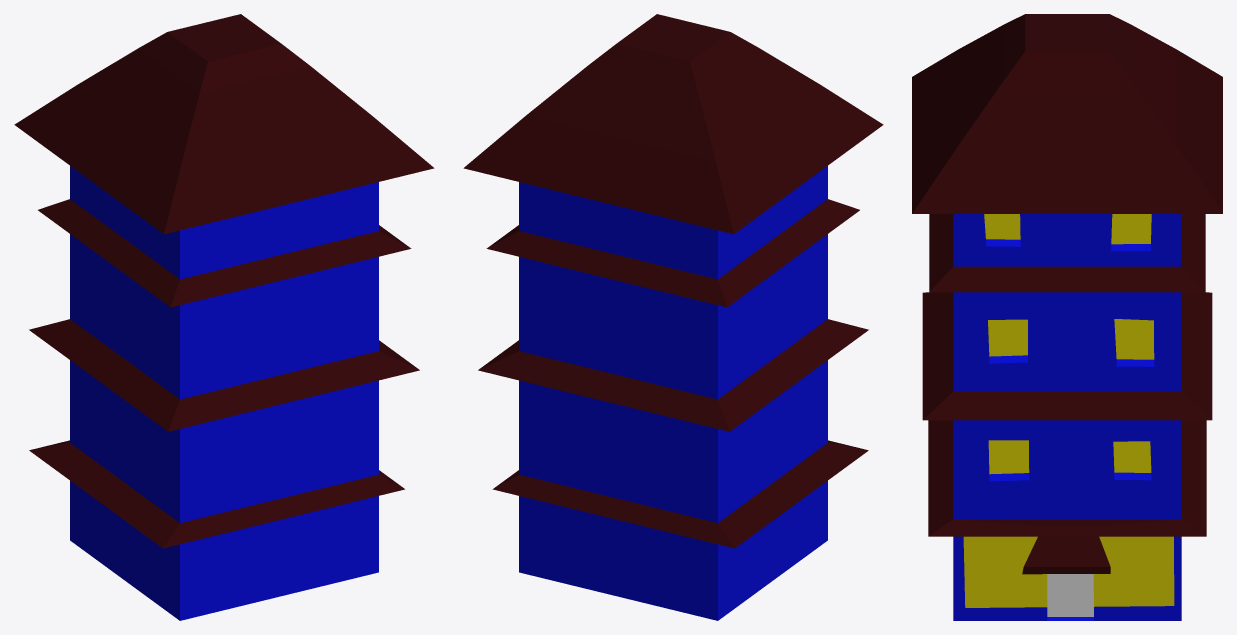
Rendered from Building8.fbx.
3 renders of one model, left to right at view 1: azimuth 30°, elevation 25°; view 2: azimuth 150°, elevation 25°; view 3: azimuth 270°, elevation 25°, orthographic. The views are drawn at different scales.
Visible parts, largest first — view 1: Plane; view 2: Plane; view 3: Plane.
Part boxes in pixels (bbox=[...]): Plane: bbox=[14, 14, 434, 620]; Plane: bbox=[463, 14, 883, 620]; Plane: bbox=[912, 14, 1222, 620].
Bounding box in the file's own units: 84.63 × 155 × 81.07.
